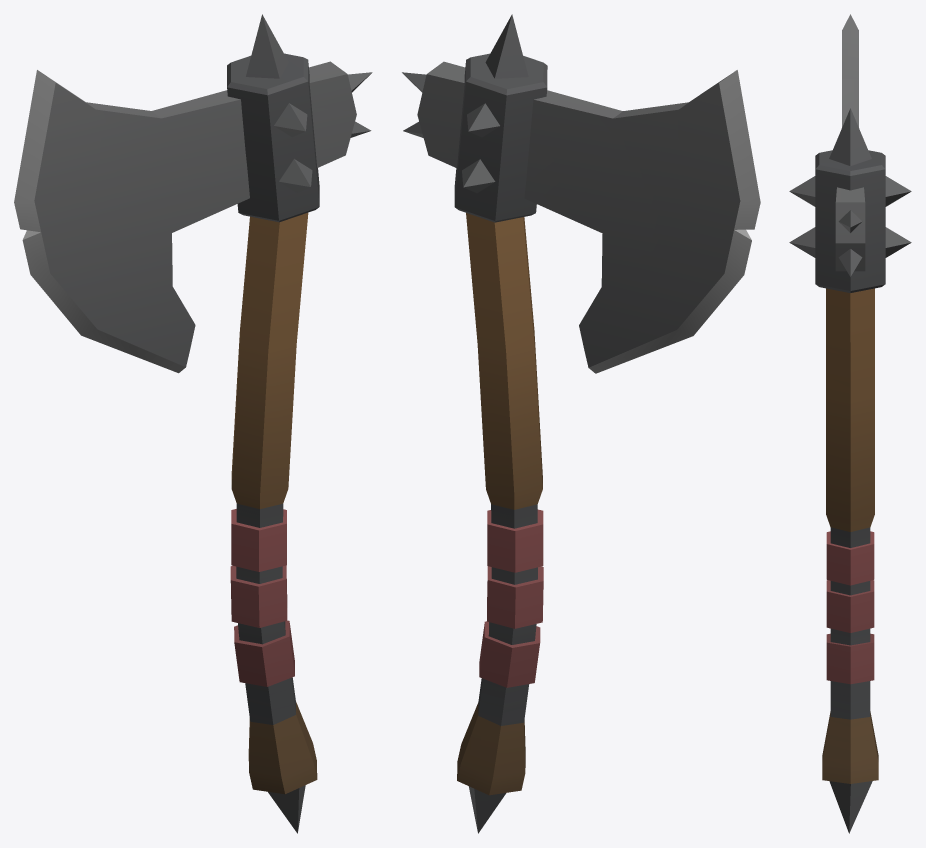
3 views of the same model, side by side, from view 1: azimuth 30°, elevation 25°; view 2: azimuth 150°, elevation 25°; view 3: azimuth 270°, elevation 25° (orthographic). The views are drawn at different scales.
Parts seen in each view (by area): view 1: Ax_01_LOD0; view 2: Ax_01_LOD0; view 3: Ax_01_LOD0.
Boxes of the visible parts, x1=… form: Ax_01_LOD0: x1=14, y1=14, x2=372, y2=833; Ax_01_LOD0: x1=402, y1=14, x2=760, y2=833; Ax_01_LOD0: x1=789, y1=14, x2=911, y2=833.
Size of what is drawn, in the model's own units: 0.382 by 0.842 by 0.1317.
